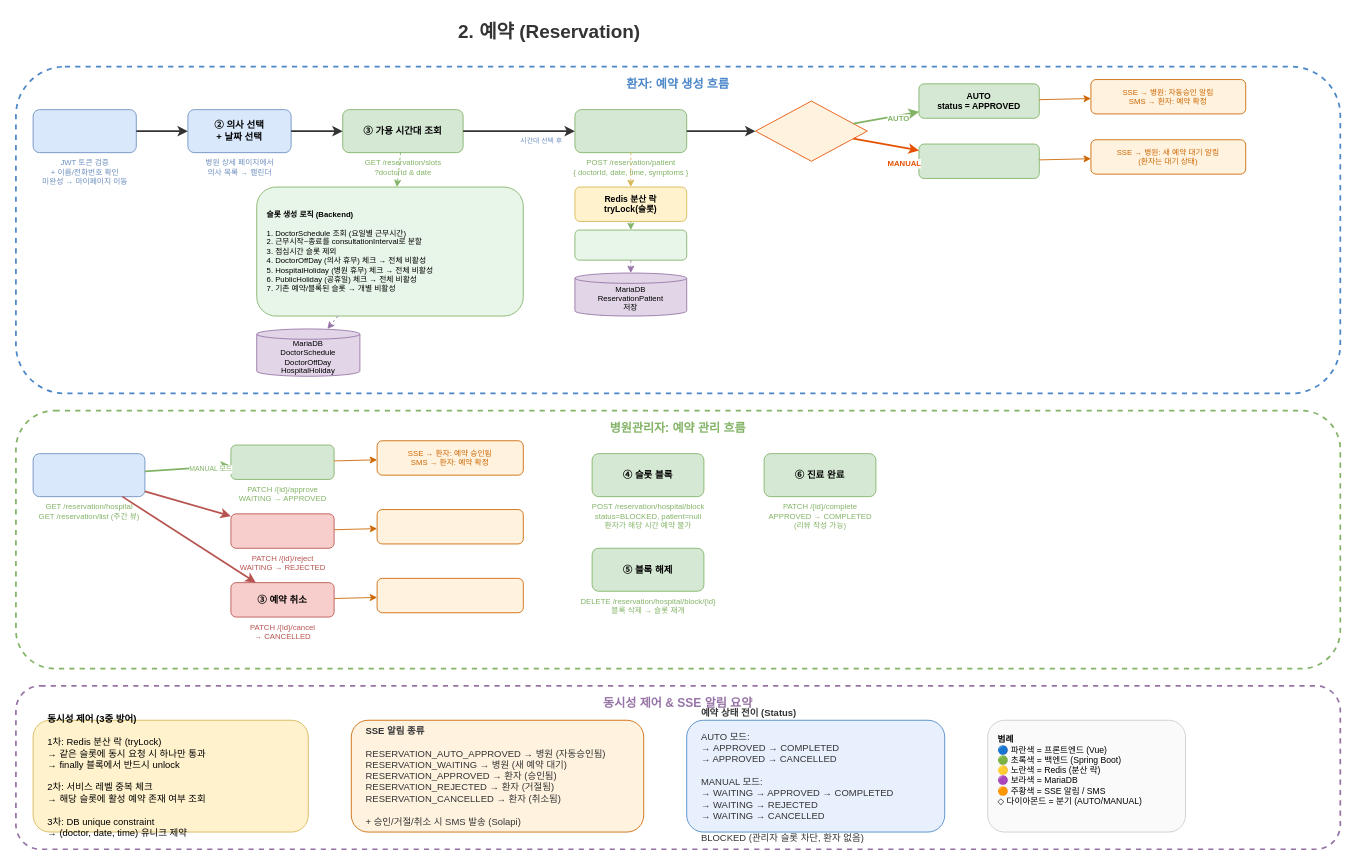
This 1355x864 diagram has some shape labels left out. The shapes that lost their labels are listed below. From the top down, each one's centre as x and y in pixels, then its label:
At point (84, 131): "① profileGuard 검증".
At point (630, 131): "④ 예약 요청".
At point (811, 130): "⑤ 승인 모드?".
At point (978, 160): "MANUAL status = WAITING".
At point (630, 244): "검증: 병원 삭제여부 + 휴무일 + 중복예약".
At point (88, 475): "① 예약 목록 조회".
At point (282, 461): "② 승인".
At point (282, 530): "② 거절".
At point (449, 526): "SSE → 환자: 예약 거절됨 SMS → 환자: 예약 거절".
At point (449, 595): "SSE → 환자: 예약 취소됨 SMS → 환자: 예약 취소".
